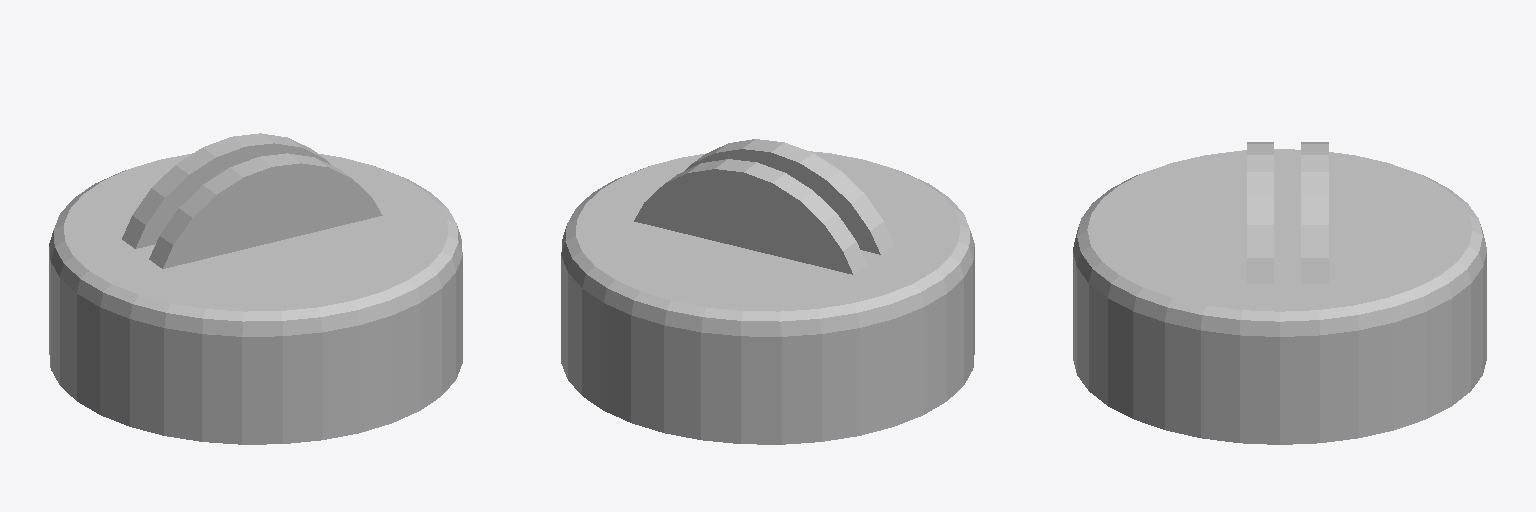
The model's file is player-stand.obj.
3 views of the same model, side by side, from view 1: azimuth 30°, elevation 25°; view 2: azimuth 150°, elevation 25°; view 3: azimuth 270°, elevation 25° (orthographic).
Visible parts, largest first — view 1: raw.001; view 2: raw.001; view 3: raw.001.
Part boxes in pixels (bbox=[...]): raw.001: bbox=[49, 133, 462, 444]; raw.001: bbox=[561, 139, 974, 444]; raw.001: bbox=[1073, 142, 1486, 444].
Bounding box in the file's own units: 0.3998 × 0.216 × 0.3998.